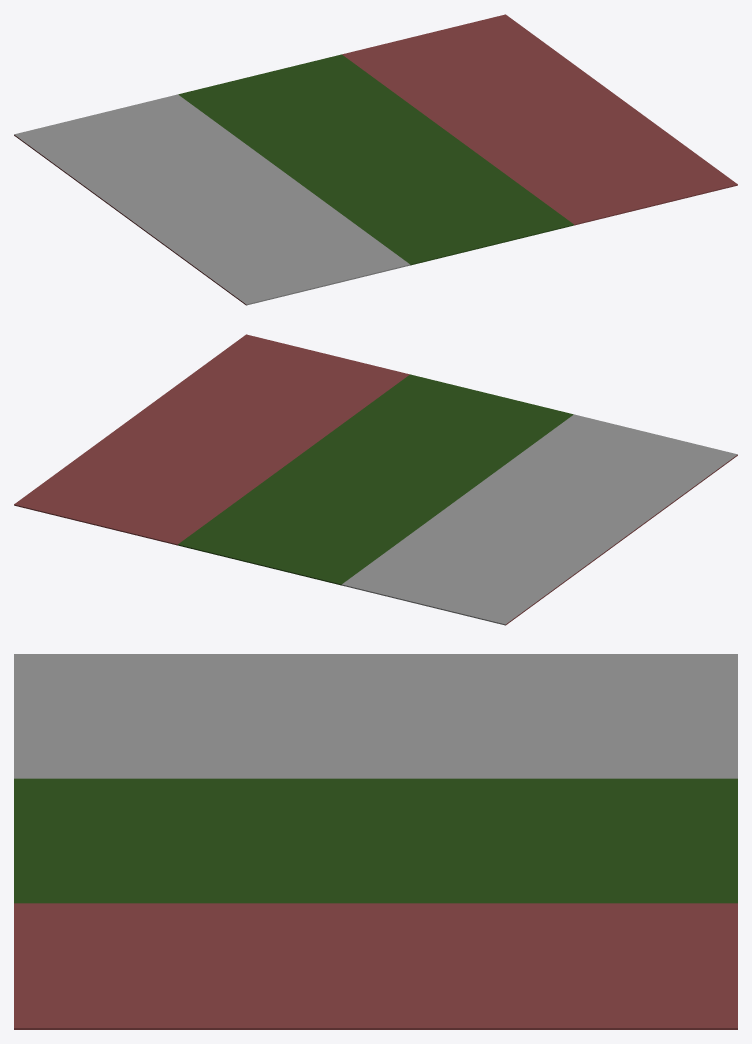
Rendered from PlaygroundFloor 1.fbx.
The picture shows the model from 3 angles, top to bottom: view 1: azimuth 30°, elevation 25°; view 2: azimuth 150°, elevation 25°; view 3: azimuth 270°, elevation 25°; orthographic projection. The views are drawn at different scales.
Visible parts, largest first — view 1: Cube; view 2: Cube; view 3: Cube.
Part boxes in pixels (x1,y1,x2,y2): Cube: [14, 14, 737, 305]; Cube: [14, 334, 737, 625]; Cube: [14, 654, 737, 1029].
Bounding box in the file's own units: 8800 × 20 × 7200.
